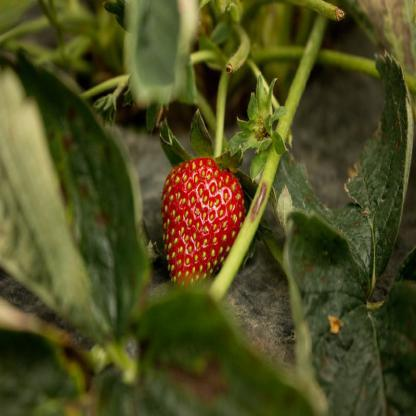strawberry: (141, 108, 266, 299)
